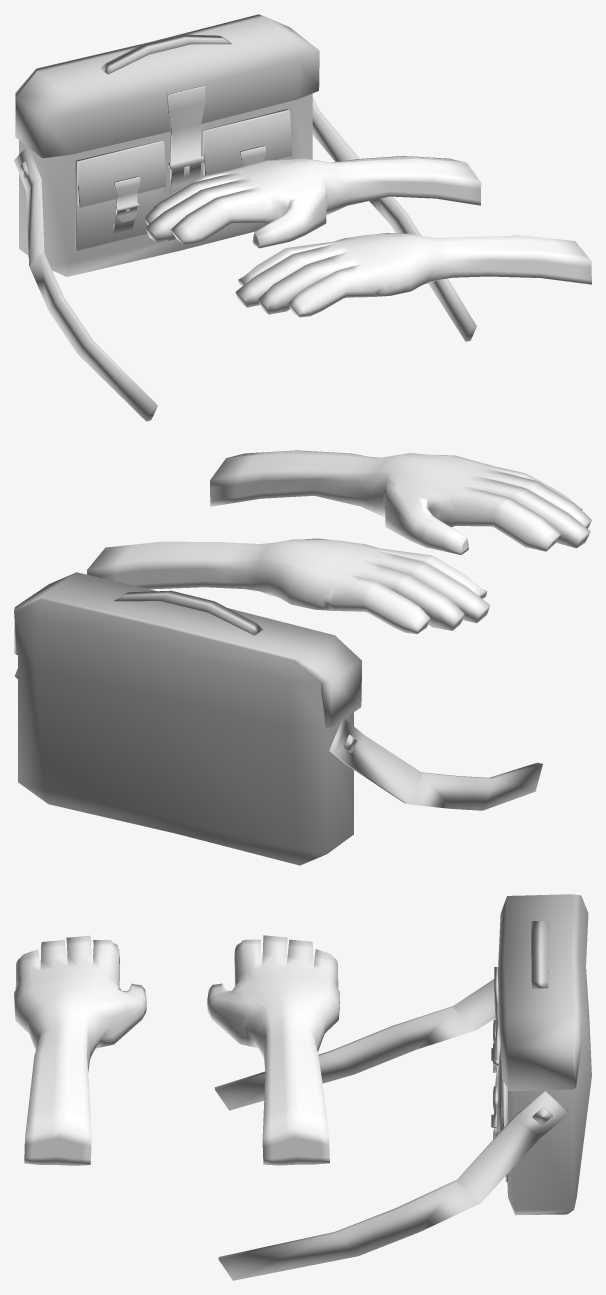
Rendered from playerHands.fbx.
3 views of the same model, one above another, from view 1: azimuth 30°, elevation 25°; view 2: azimuth 150°, elevation 25°; view 3: azimuth 270°, elevation 25° (orthographic). The views are drawn at different scales.
Parts seen in each view (by area): view 1: BagBottom, BagTop, Hand.R, Hand.L; view 2: BagBottom, Hand.L, Hand.R, BagTop; view 3: BagBottom, Hand.R, Hand.L, BagTop.
Boxes of the visible parts, bbox=[...] form: BagBottom: bbox=[14, 85, 476, 421]; BagTop: bbox=[15, 14, 319, 158]; Hand.R: bbox=[144, 156, 481, 248]; Hand.L: bbox=[235, 233, 591, 317]; BagBottom: bbox=[15, 599, 542, 865]; Hand.L: bbox=[210, 450, 591, 554]; Hand.R: bbox=[87, 538, 490, 633]; BagTop: bbox=[14, 572, 361, 727]; BagBottom: bbox=[214, 896, 591, 1280]; Hand.R: bbox=[207, 935, 339, 1165]; Hand.L: bbox=[14, 935, 146, 1165]; BagTop: bbox=[498, 894, 581, 1091].
Size of the model in its own units: 8.75 by 5.42 by 11.13.
